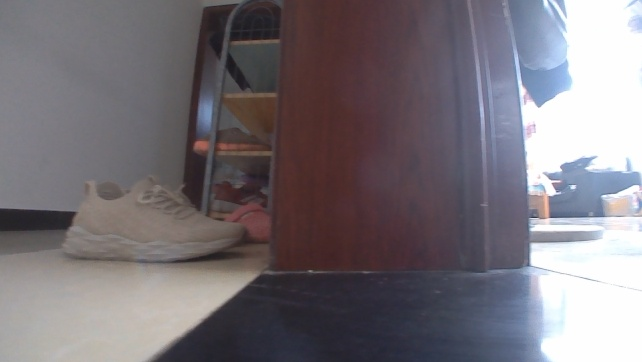shoe: (57, 171, 248, 266)
